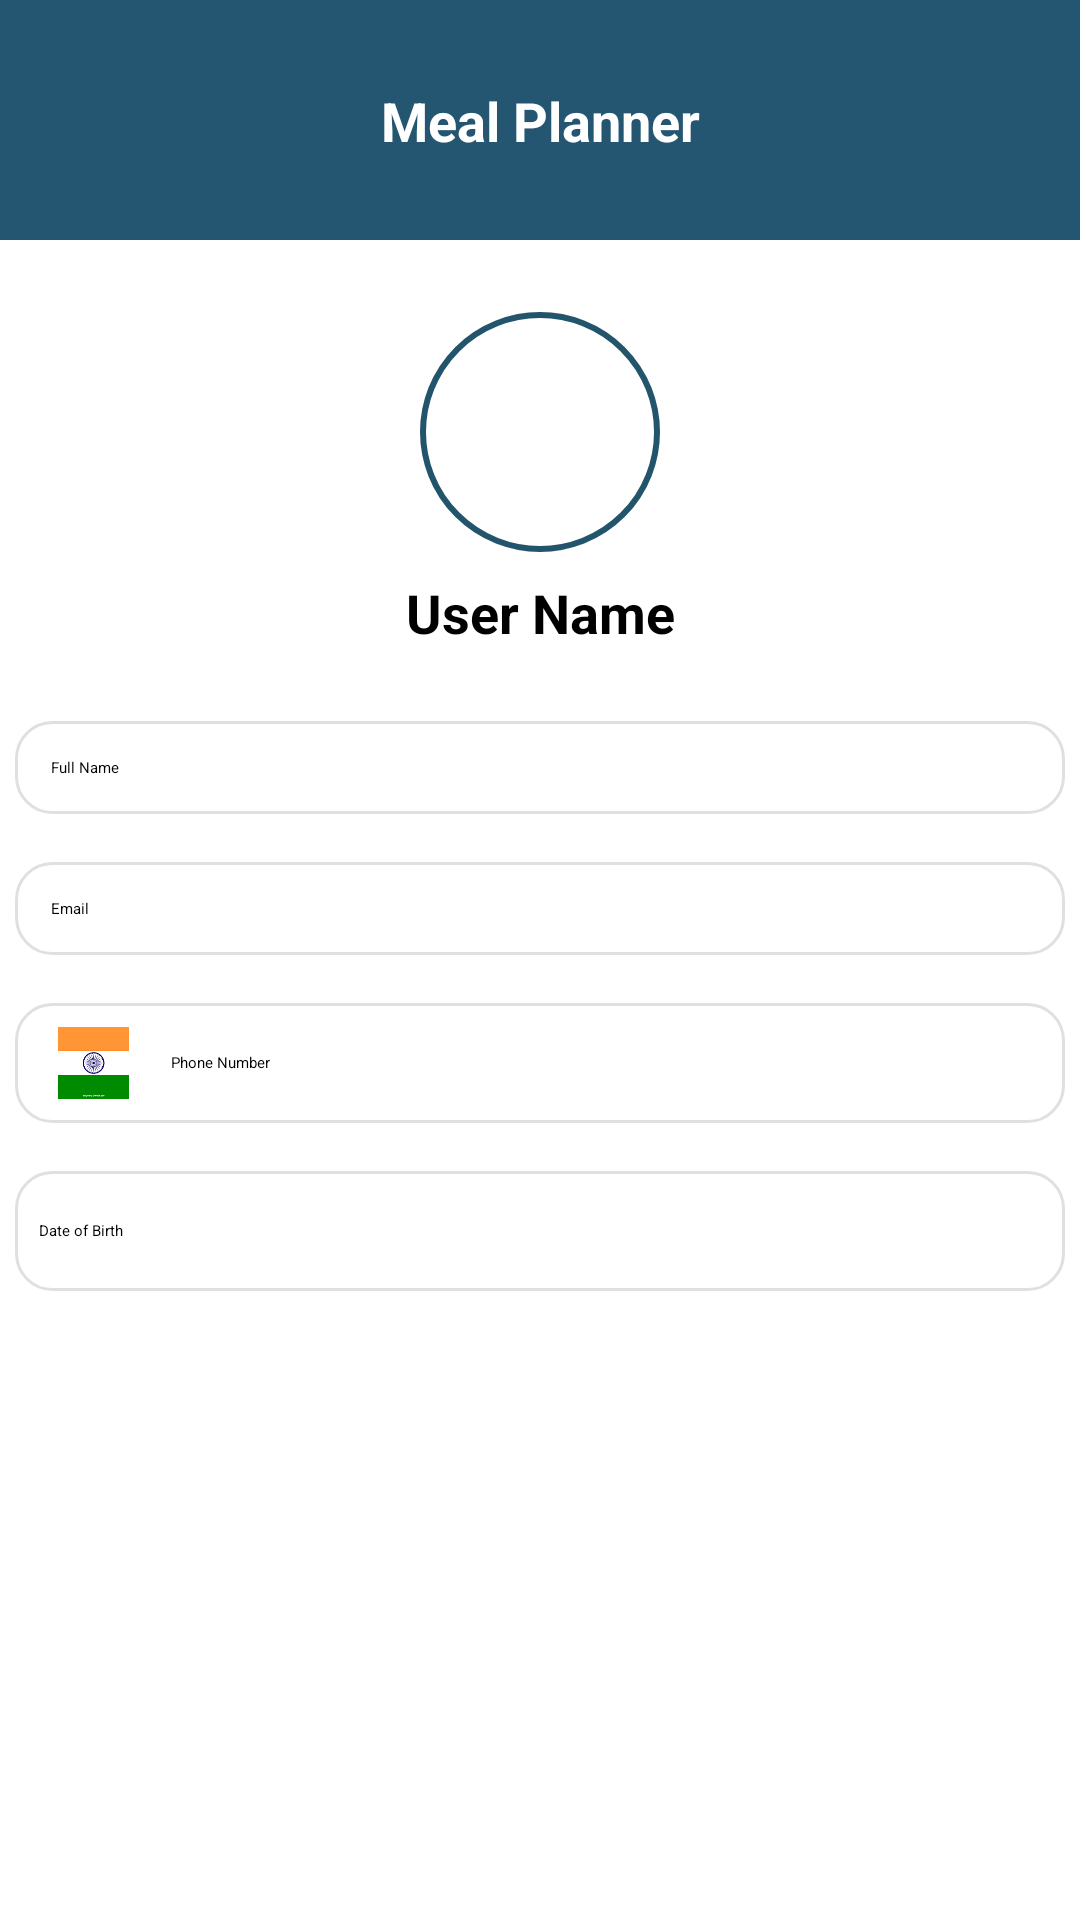

Where icons sit on this 1080 x 1920 app screen, as (left=x1, top=y1, right=x2, bottom=y2):
Flag: (left=58, top=1027, right=129, bottom=1099)
